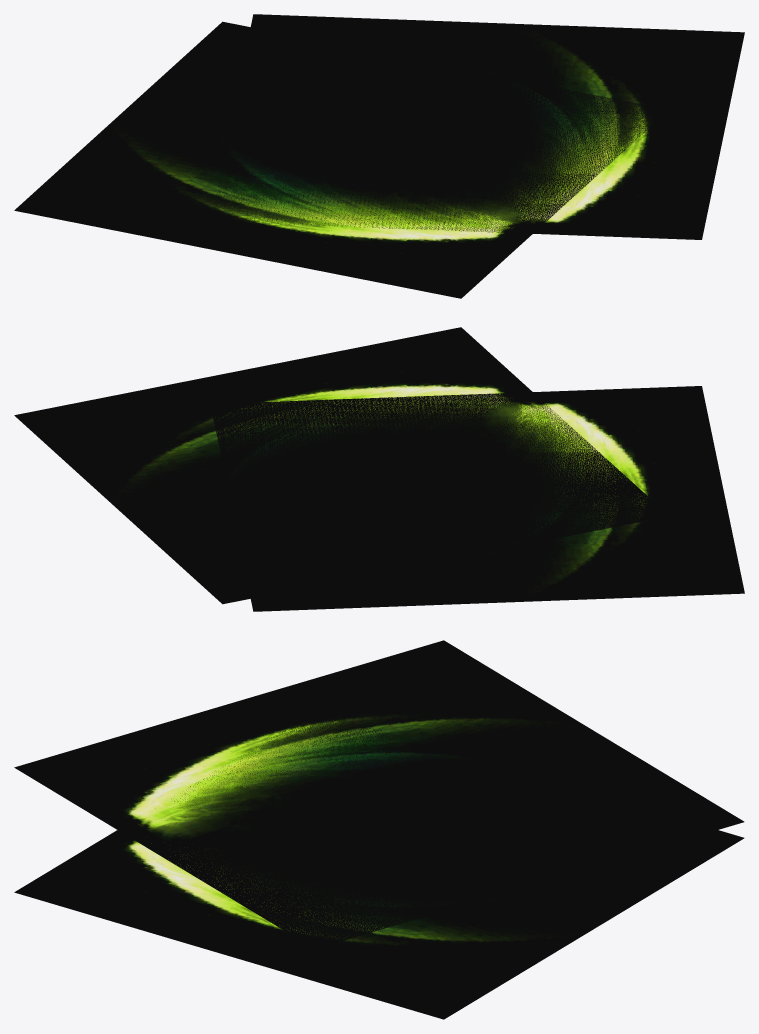
File: Effect_3101attack_S.fbx
The picture shows the model from 3 angles, top to bottom: view 1: azimuth 30°, elevation 25°; view 2: azimuth 150°, elevation 25°; view 3: azimuth 270°, elevation 25°; orthographic projection. The views are drawn at different scales.
Visible parts, largest first — view 1: Effect_4024attack01, Effect_4024attack02; view 2: Effect_4024attack02, Effect_4024attack01; view 3: Effect_4024attack01, Effect_4024attack02.
Boxes of the visible parts, box(x1,y1,x2,y2) form: Effect_4024attack01: box(14, 21, 668, 298); Effect_4024attack02: box(211, 14, 744, 239); Effect_4024attack02: box(14, 327, 668, 604); Effect_4024attack01: box(210, 386, 744, 611); Effect_4024attack01: box(14, 640, 744, 948); Effect_4024attack02: box(14, 711, 744, 1019).
Bounding box in the file's own units: 5.13 × 7.77e-16 × 4.18.
1 material, 1 textured.
